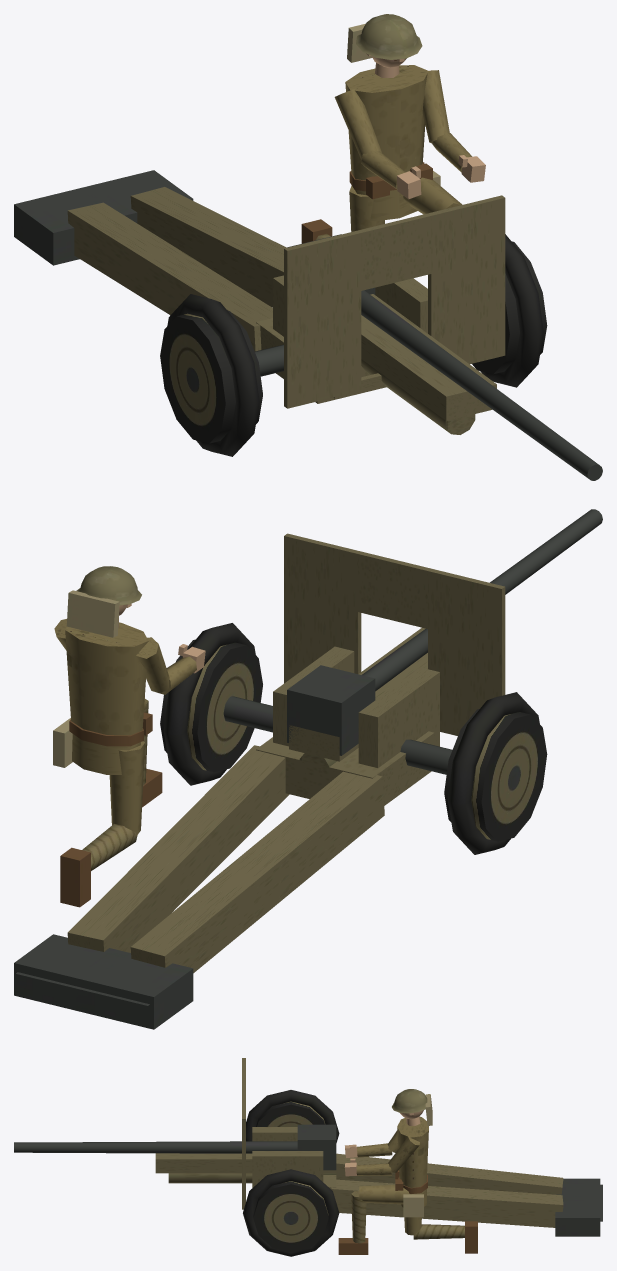
The model's file is infantry-2.glb.
The picture shows the model from 3 angles, top to bottom: view 1: azimuth 30°, elevation 25°; view 2: azimuth 150°, elevation 25°; view 3: azimuth 270°, elevation 25°; orthographic projection. The views are drawn at different scales.
Parts seen in each view (by area): view 1: bouclier, trail_right, gun, wheels_right, trail_left, body, wheels_left, affut, head, arm_right, forearm_right, arm_left (+3 smaller); view 2: bouclier, trail_right, trail_left, affut, wheels_right, gun, body, wheels_left, head, shin_right, leg_right, arm_right (+2 smaller); view 3: trail_left, gun, wheels_left, trail_right, wheels_right, affut, body, shin_left, shin_right, head, leg_left, forearm_left (+4 smaller).
Part boxes in pixels (x1=…): bouclier: x1=284, y1=195, x2=505, y2=408; trail_right: x1=14, y1=187, x2=272, y2=351; gun: x1=287, y1=234, x2=602, y2=480; wheels_right: x1=160, y1=294, x2=262, y2=456; trail_left: x1=76, y1=170, x2=286, y2=307; body: x1=345, y1=65, x2=440, y2=221; wheels_left: x1=472, y1=234, x2=547, y2=387; affut: x1=255, y1=275, x2=427, y2=403; head: x1=347, y1=14, x2=422, y2=77; arm_right: x1=334, y1=88, x2=381, y2=159; forearm_right: x1=361, y1=150, x2=421, y2=199; arm_left: x1=420, y1=70, x2=449, y2=143; bouclier: x1=284, y1=533, x2=505, y2=735; trail_right: x1=76, y1=771, x2=384, y2=1029; trail_left: x1=14, y1=745, x2=289, y2=1013; affut: x1=223, y1=646, x2=452, y2=805; wheels_right: x1=444, y1=692, x2=547, y2=854; gun: x1=287, y1=509, x2=602, y2=766; body: x1=53, y1=622, x2=152, y2=774; wheels_left: x1=160, y1=623, x2=262, y2=785; head: x1=66, y1=566, x2=141, y2=637; shin_right: x1=60, y1=824, x2=138, y2=907; leg_right: x1=109, y1=741, x2=144, y2=835; arm_right: x1=136, y1=637, x2=169, y2=693; trail_left: x1=331, y1=1179, x2=602, y2=1236; gun: x1=14, y1=1124, x2=336, y2=1183; wheels_left: x1=243, y1=1169, x2=339, y2=1256; trail_right: x1=336, y1=1153, x2=602, y2=1204; wheels_right: x1=246, y1=1090, x2=339, y2=1142; affut: x1=252, y1=1127, x2=336, y2=1188; body: x1=395, y1=1116, x2=428, y2=1217; shin_left: x1=338, y1=1191, x2=368, y2=1254; shin_right: x1=413, y1=1221, x2=477, y2=1253; head: x1=392, y1=1089, x2=432, y2=1125; leg_left: x1=359, y1=1185, x2=414, y2=1204; forearm_left: x1=344, y1=1158, x2=392, y2=1176.
Size of the model in its own units: 1.81 by 1.41 by 4.57.
8 materials, 8 textured.
